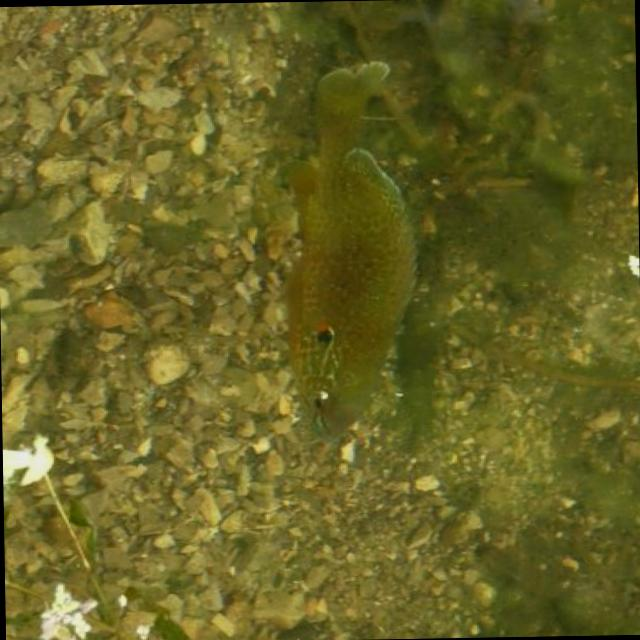Gunes Levregi: (261, 52, 426, 447)
